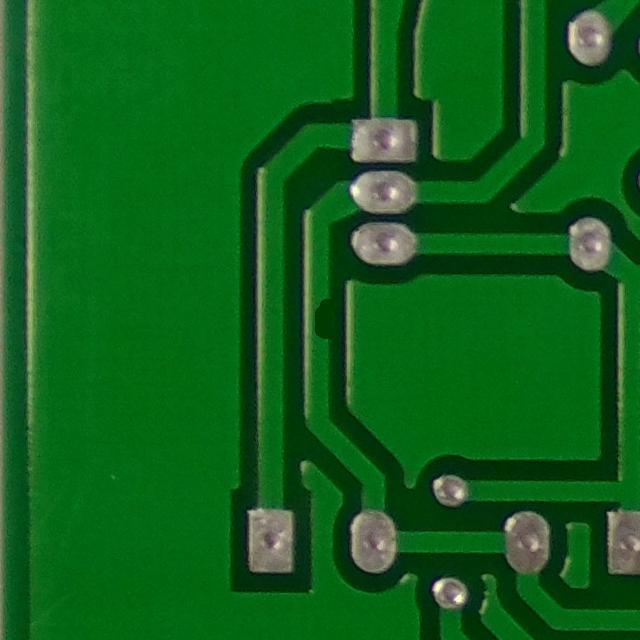mouse_bite: (299, 285, 342, 356)
